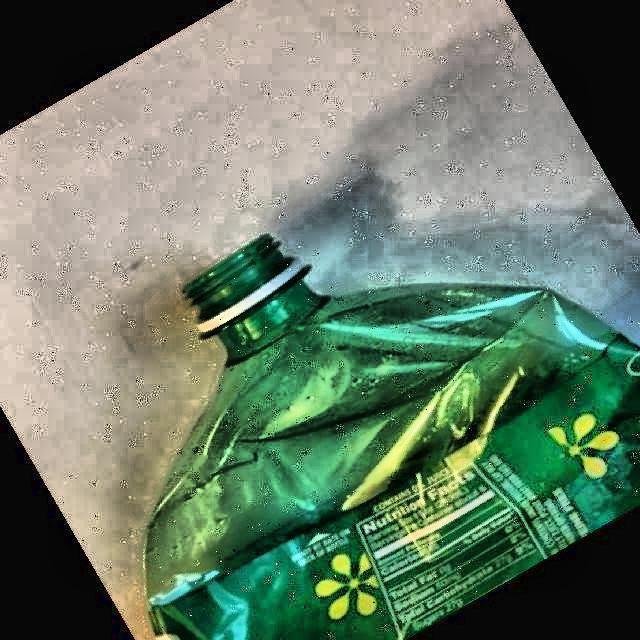plastic: (146, 235, 640, 640)
